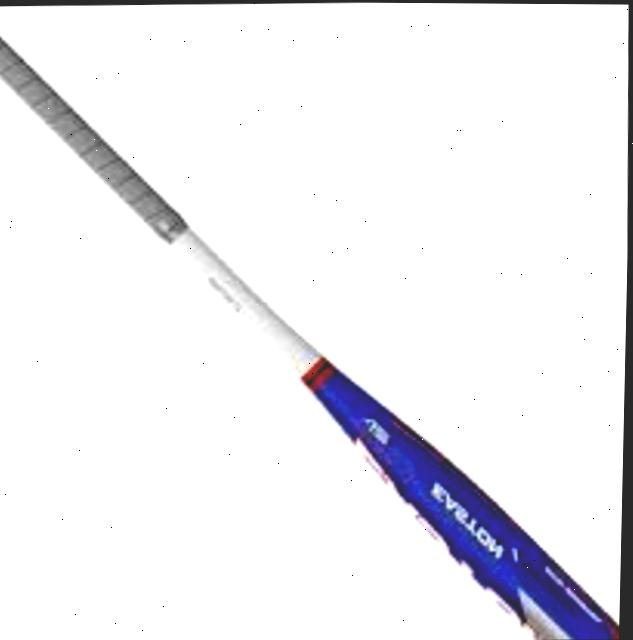baseball bat: (0, 41, 622, 639)
